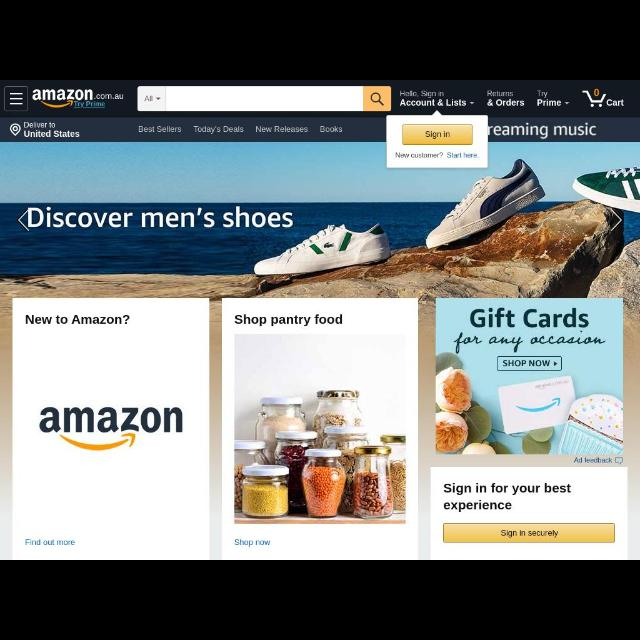backgroundimage: (1, 142, 640, 560)
button: (5, 86, 28, 112), (366, 88, 390, 110)
icon: (584, 88, 606, 108), (18, 208, 30, 232), (610, 209, 622, 231), (10, 92, 24, 106), (372, 93, 384, 107), (10, 124, 20, 136), (615, 458, 623, 464), (564, 100, 570, 106), (470, 101, 474, 105), (156, 98, 160, 100)
image: (234, 334, 406, 524), (436, 299, 624, 455), (38, 406, 184, 452), (31, 86, 125, 110)
input: (166, 87, 364, 111)
link: (74, 102, 106, 108)
multitab: (94, 117, 386, 141)
spinner: (400, 90, 474, 108), (536, 88, 572, 110), (138, 86, 166, 112)
text: (29, 206, 294, 228), (443, 482, 572, 512), (488, 123, 596, 139), (235, 315, 343, 327), (400, 91, 466, 107), (26, 315, 130, 325), (486, 90, 524, 106), (395, 152, 479, 158), (24, 130, 80, 138), (537, 90, 561, 108), (193, 126, 244, 134), (25, 538, 75, 546), (256, 126, 308, 132), (234, 540, 272, 548), (138, 126, 182, 132), (575, 457, 613, 463), (24, 122, 56, 128), (320, 126, 342, 132), (609, 99, 625, 107), (144, 96, 152, 104)
textbutton: (443, 524, 614, 542), (403, 125, 473, 145)
toolbar: (0, 80, 638, 118)
